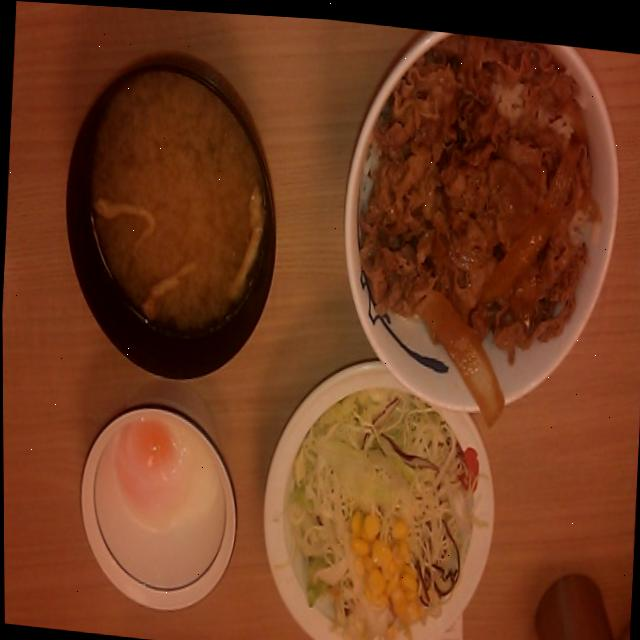汤锅炖物: (58, 39, 291, 398)
蔬菜料理: (250, 341, 504, 640)
